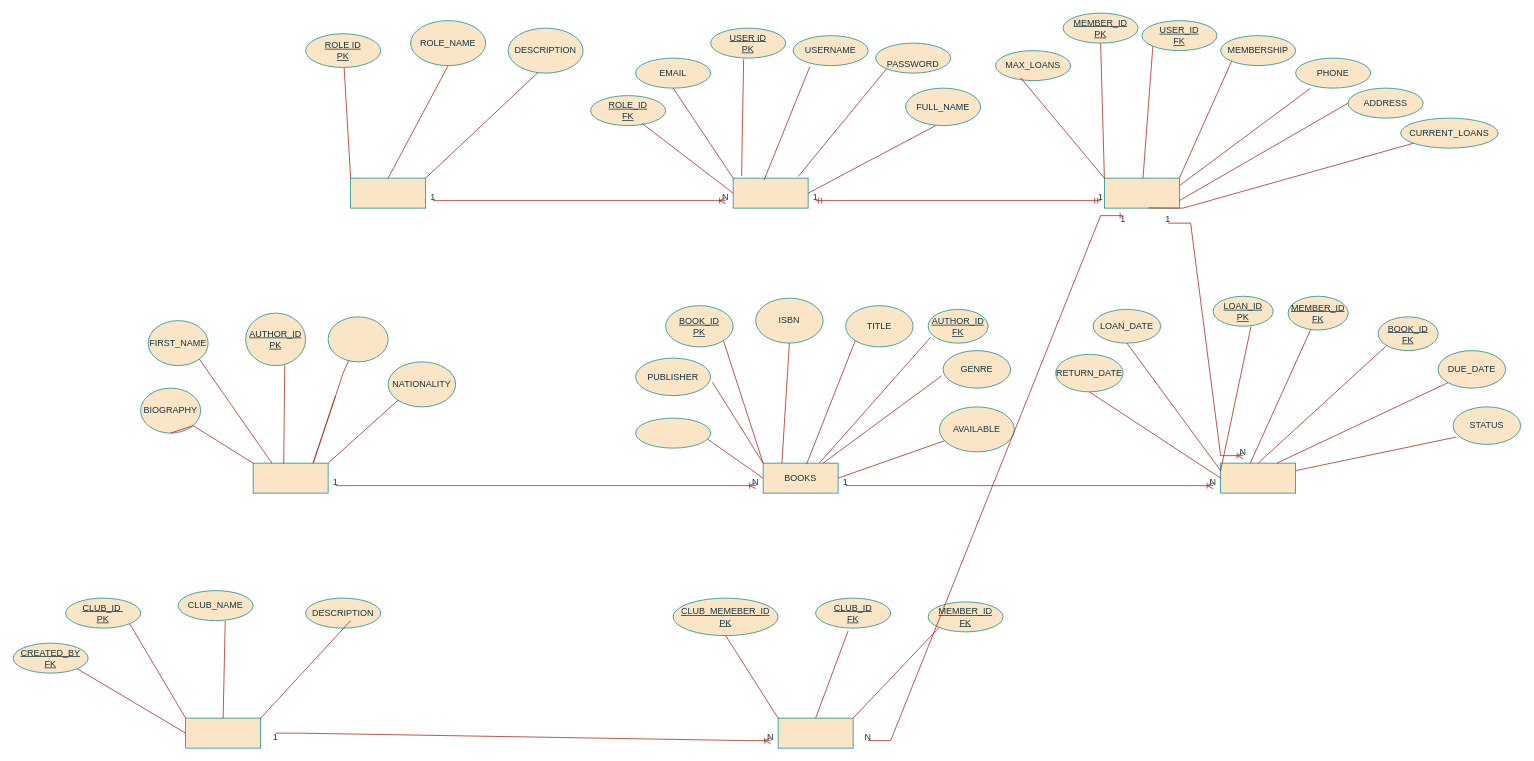
Some shapes in this 1534 by 761 pixel diagram are drawn without their labels. Each missing label, with the centre of its shape:
"AUTHORS" goes at (x=290, y=477).
"BOOK_CLUB MEMBERS" goes at (x=815, y=732).
"BOOK_CLUBS" goes at (x=223, y=732).
"LAST_NAME" goes at (x=357, y=339).
"LOANS" goes at (x=1258, y=477).
"MEMEBERS" goes at (x=1141, y=192).
"ROLES" goes at (x=388, y=192).
"TOTAL_COPIES" goes at (x=673, y=432).
"USERS" goes at (x=770, y=192).
